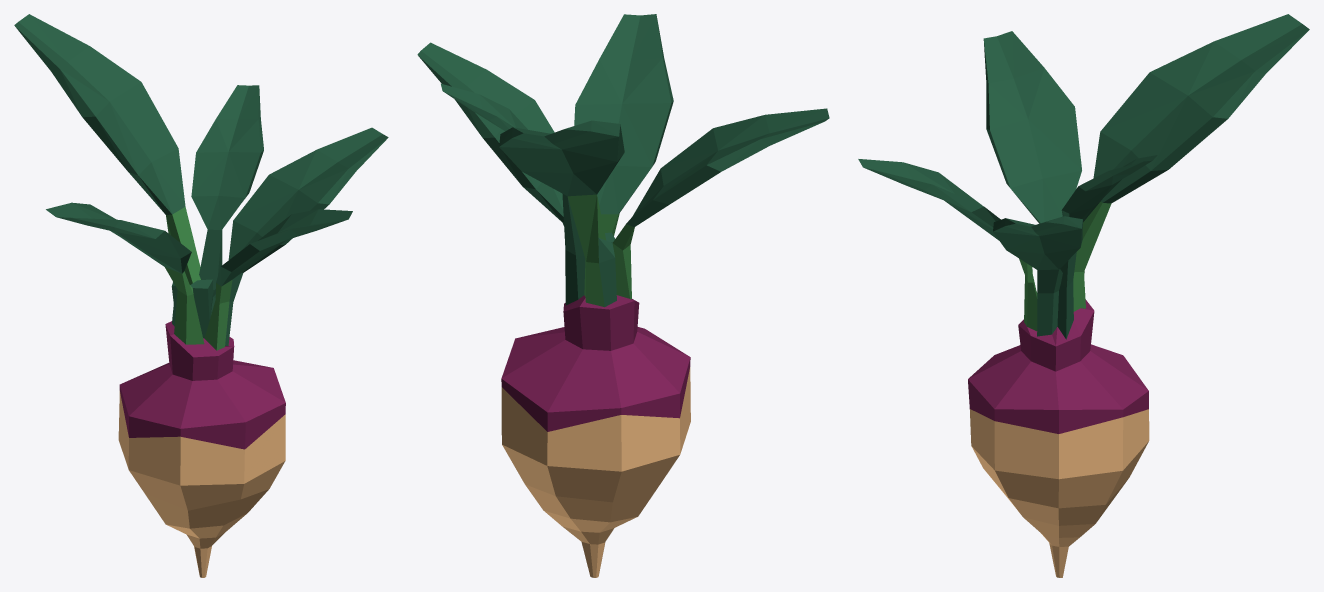
File: Rutabaga_L.fbx
3 renders of one model, left to right at view 1: azimuth 30°, elevation 25°; view 2: azimuth 150°, elevation 25°; view 3: azimuth 270°, elevation 25°, orthographic. The views are drawn at different scales.
Parts seen in each view (by area): view 1: Rutabaga_L; view 2: Rutabaga_L; view 3: Rutabaga_L.
Boxes of the visible parts, x1,y1,x2,y2 form: Rutabaga_L: (14, 14, 388, 577); Rutabaga_L: (417, 14, 829, 577); Rutabaga_L: (858, 14, 1309, 577).
Bounding box in the file's own units: 45.74 × 62.04 × 48.78.
